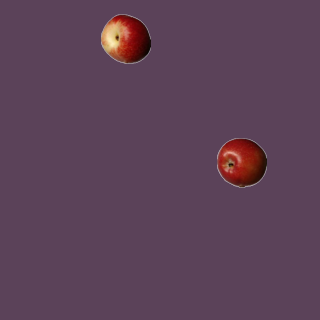Apple Braeburn: (216, 137, 266, 187)
Nectarine: (100, 13, 150, 63)
